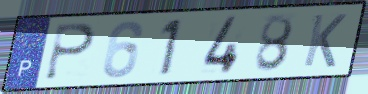1: (157, 17, 186, 79)
4: (199, 14, 241, 76)
6: (100, 19, 144, 80)
8: (252, 13, 295, 73)
K: (300, 12, 349, 69)
P: (42, 22, 98, 83)
